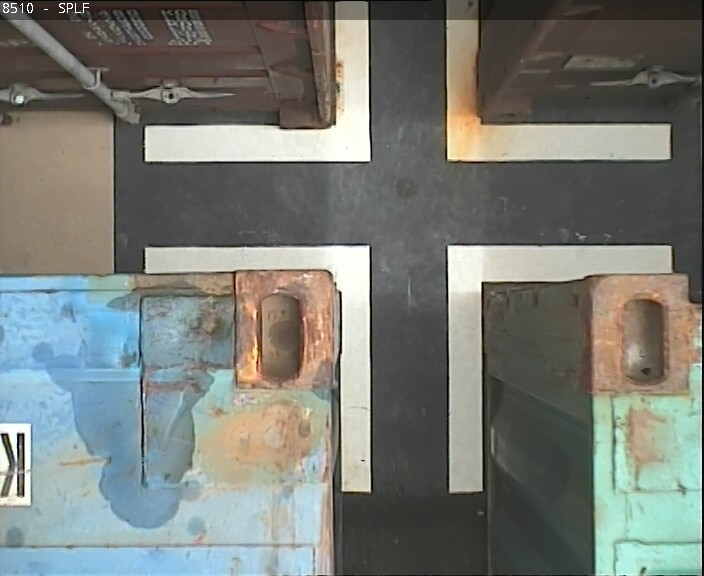groundmarker_1: (142, 242, 672, 499), (138, 7, 675, 165)
